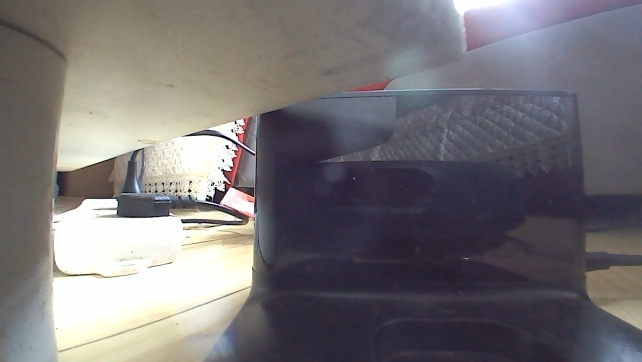wire: (171, 195, 248, 227), (184, 128, 255, 155), (583, 248, 641, 273), (122, 146, 149, 192)
